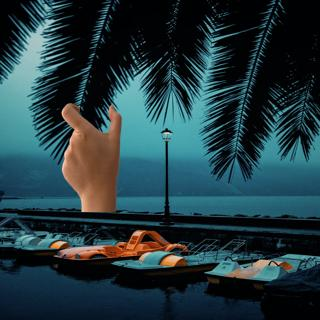HATE: (53, 98, 131, 209)
